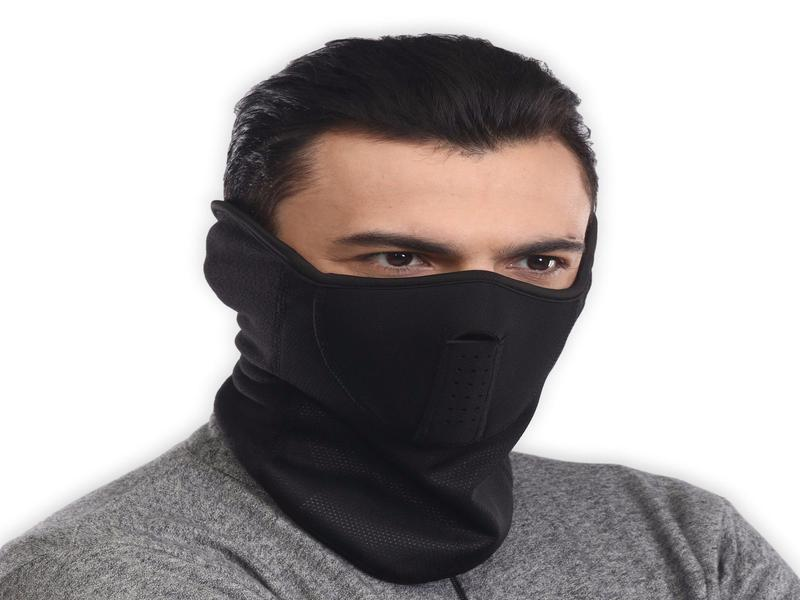with_mask: (197, 28, 599, 578)
